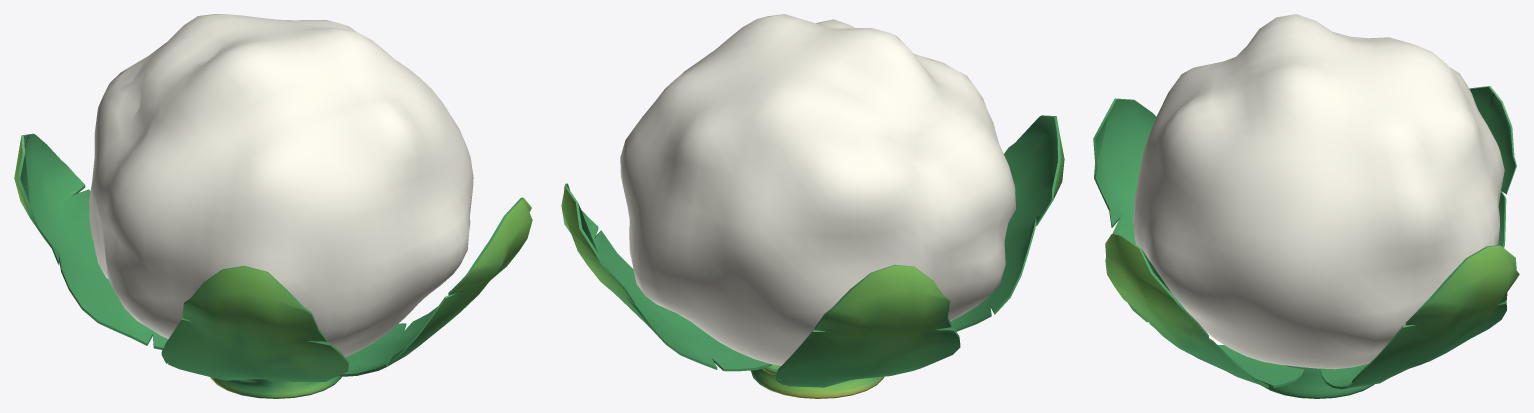
Rendered from Cauliflower.fbx.
The picture shows the model from 3 angles, left to right: view 1: azimuth 30°, elevation 25°; view 2: azimuth 150°, elevation 25°; view 3: azimuth 270°, elevation 25°; orthographic projection. The views are drawn at different scales.
Visible parts, largest first — view 1: 立方体; view 2: 立方体; view 3: 立方体.
Part boxes in pixels (x1,y1,x2,y2): 立方体: [14, 14, 532, 398]; 立方体: [561, 14, 1064, 398]; 立方体: [1093, 14, 1519, 398].
Bounding box in the file's own units: 43.2 × 37.72 × 43.55.
1 material, 1 textured.
